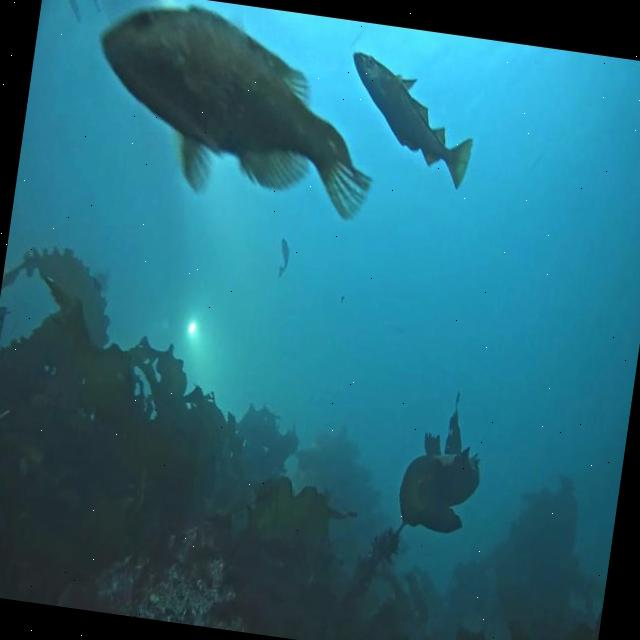fish: (79, 0, 392, 227), (336, 48, 482, 194), (276, 238, 292, 279), (58, 0, 85, 20), (83, 0, 106, 14)
